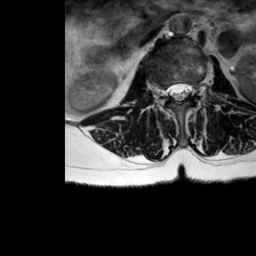CCS_normal: (175, 74, 184, 109)
LFS_normal: (192, 74, 202, 100)
LLS_normal: (184, 74, 192, 104)
RFS_normal: (159, 75, 168, 105)
RLS_normal: (167, 74, 175, 103)
